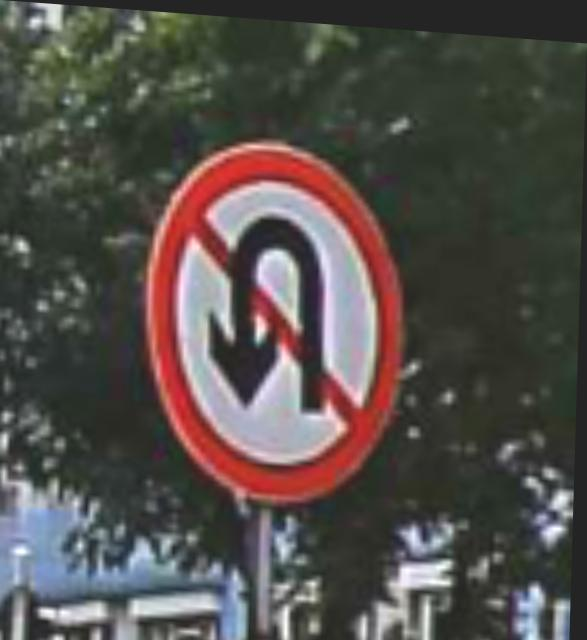not_u_turn_left: (128, 120, 404, 500)
